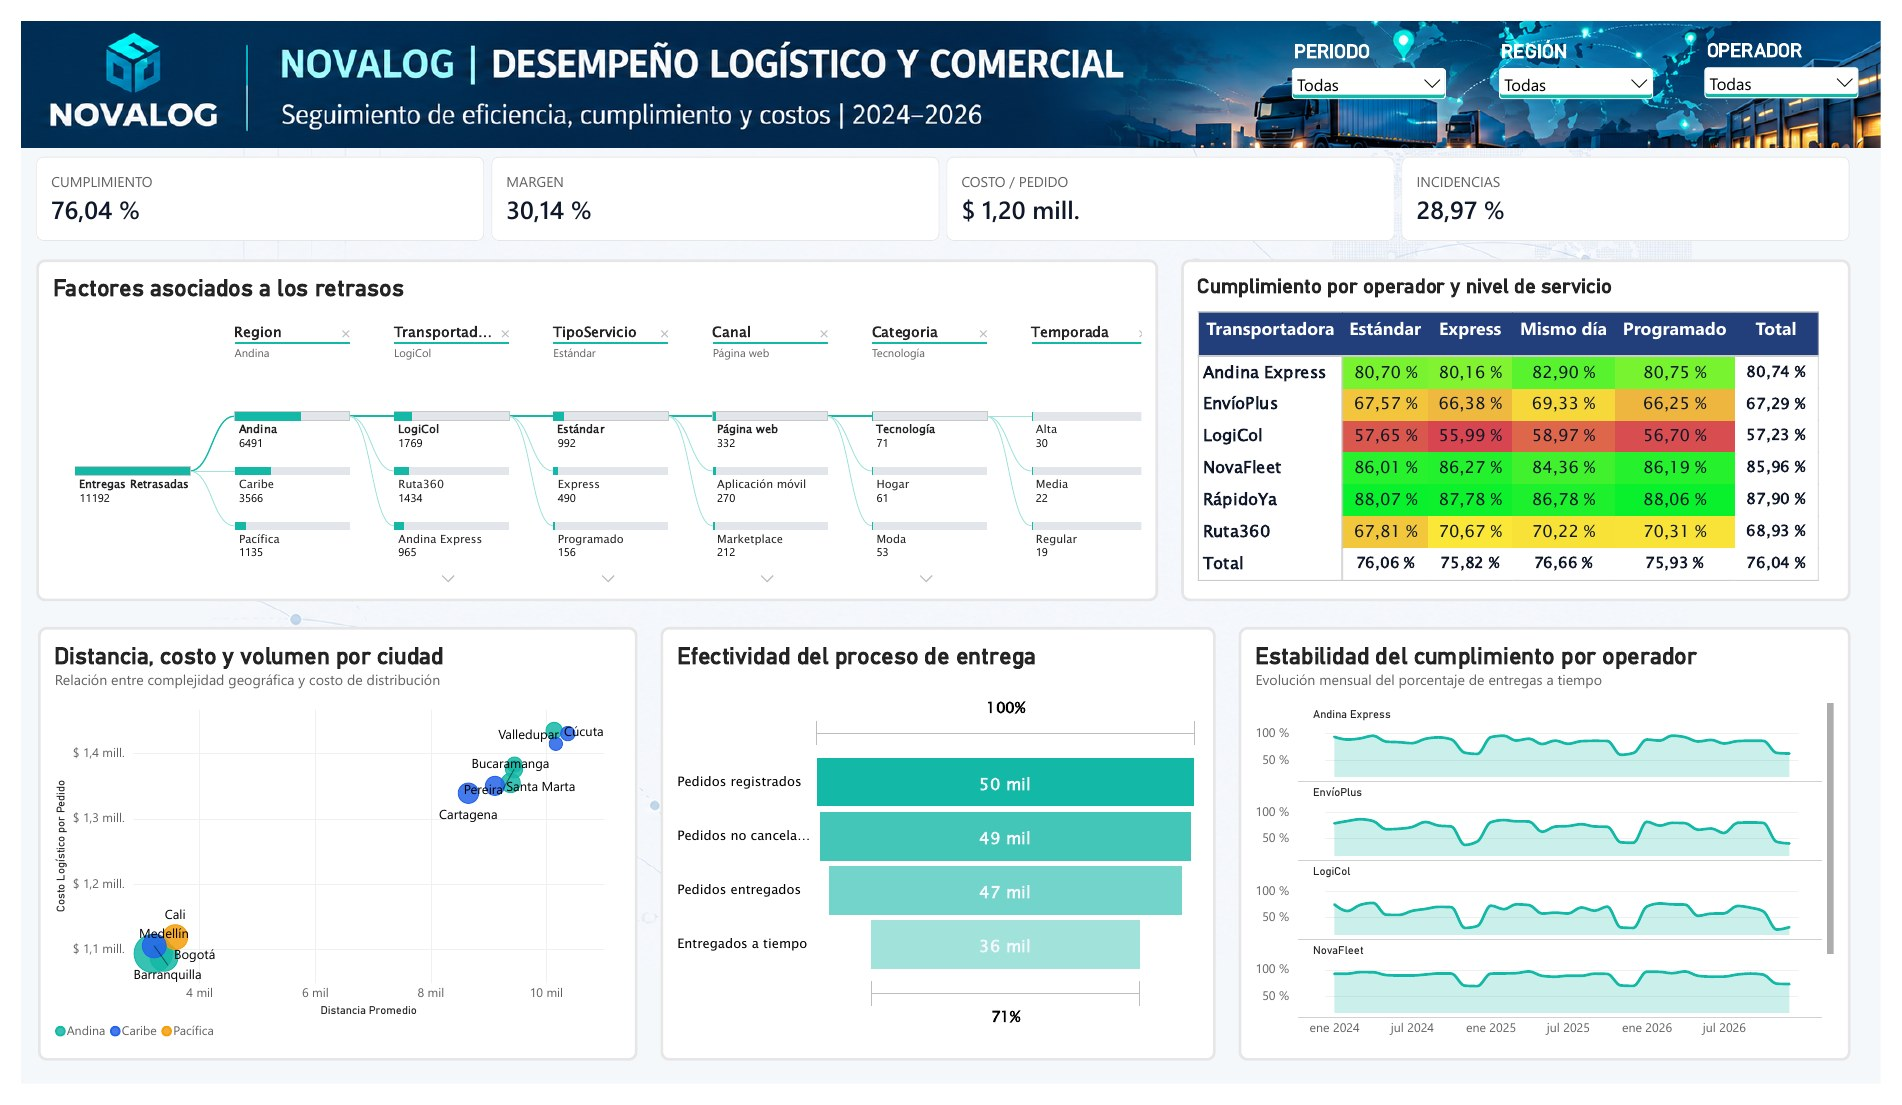

The dashboard page shown, as its layout file describes it:
{"tool":"powerbi","page":{"name":"Página 1","canvas":[2100,1200],"ordinal":0},"visuals":[{"type":"image","box":[0,0,2100,142.5],"z":0},{"type":"cardVisual","fields":{"Data":["_Medidas.Cumplimiento %","_Medidas.Margen %","_Medidas.Costo Logístico por Pedido","_Medidas.Tasa Incidencias"]},"box":[17.1,152.9,2050,95],"z":1000},{"type":"decompositionTreeVisual","title":"Factores asociados a los retrasos","fields":{"Analyze":["_Medidas.Entregas Retrasadas"],"ExplainBy":["Dim_Geografia.Region","Dim_Transportadora.Transportadora","Dim_TipoServicio.TipoServicio","Dim_Canal.Canal","Dim_Producto.Categoria","Dim_Fecha.Temporada"]},"box":[16.8,268.8,1267.2,386.4],"z":5000},{"type":"pivotTable","title":"Cumplimiento por operador y nivel de servicio","fields":{"Rows":["Dim_Transportadora.Transportadora"],"Columns":["Dim_TipoServicio.TipoServicio"],"Values":["_Medidas.Cumplimiento %"]},"box":[1310.4,268.8,756,386.4],"z":6000},{"type":"scatterChart","title":"Distancia, costo y volumen por ciudad","fields":{"X":["_Medidas.Distancia Promedio"],"Y":["_Medidas.Costo Logístico por Pedido"],"Size":["_Medidas.Total Pedidos"],"Series":["Dim_Geografia.Region"],"Category":["Dim_Geografia.Ciudad"]},"box":[19.1,684.4,676.7,490],"z":7000},{"type":"funnel","title":"Efectividad del proceso de entrega","fields":{"Category":["Etapas_Flujo.Etapa"],"Y":["Etapas_Flujo.Valor Etapa Flujo"]},"box":[722.4,684,626.4,489.6],"z":8000},{"type":"lineChart","title":"Estabilidad del cumplimiento por operador","fields":{"Category":["Dim_Fecha.AnioMes"],"Y":["_Medidas.Cumplimiento %"],"Rows":["Dim_Transportadora.Transportadora"]},"box":[1375.2,684,691.2,489.6],"z":9000},{"type":"slicer","fields":{"Values":["Dim_Fecha.Anio"]},"box":[1430,22,183.9,93.2],"z":10000},{"type":"slicer","fields":{"Values":["Dim_Transportadora.Transportadora"]},"box":[1895.7,21.4,183.9,93.2],"z":10500},{"type":"slicer","fields":{"Values":["Dim_Geografia.Region"]},"box":[1664,22,183.9,93.2],"z":11000}]}

Visuals, with their boxes in screenshot pixels (x1, y1, x2, y2), scaled from the page's 2100x1200 canvas onto the 1902x1105 screenshot:
image: 0/0/1901/131
cardVisual - _Medidas.Cumplimiento % x _Medidas.Margen %: 15/141/1872/228
"Factores asociados a los retrasos" decompositionTreeVisual: 15/248/1163/603
"Cumplimiento por operador y nivel de servicio" pivotTable: 1187/248/1872/603
"Distancia, costo y volumen por ciudad" scatterChart: 17/630/630/1081
"Efectividad del proceso de entrega" funnel: 654/630/1222/1081
"Estabilidad del cumplimiento por operador" lineChart: 1246/630/1872/1081
slicer - Dim_Fecha.Anio: 1295/20/1462/106
slicer - Dim_Transportadora.Transportadora: 1717/20/1884/106
slicer - Dim_Geografia.Region: 1507/20/1674/106
